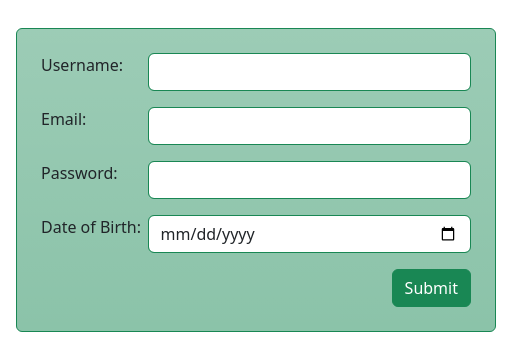
Validation after incorrect data submission › Displays an error message 'Email is invalid' if email has an incorrect format
Type "marius" into the field with test id "username".
click(310, 72); type("marius")  # box [148,53,472,91]
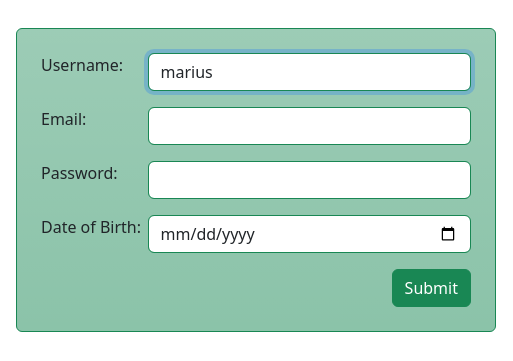
Type "abc" into the field with test id "email".
click(310, 126); type("abc")  # box [148,107,472,145]
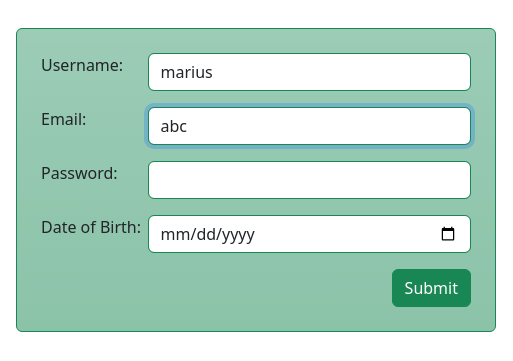
Type "mariuxas" into the password field with test id "password".
click(310, 180); type("mariuxas")  # box [148,161,472,199]
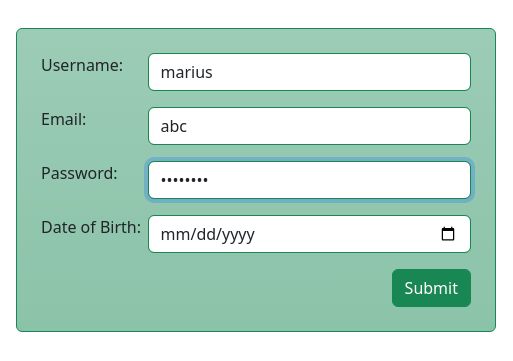
Type "1995-05-30" into the date field with test id "date-of-birth".
click(310, 234); type("1995-05-30")  # box [148,215,472,253]
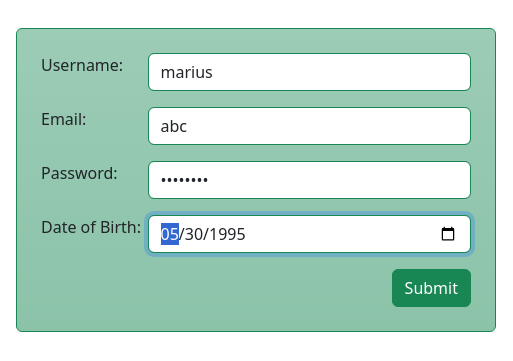
Click the button with test id "submit".
click(432, 288)  # box [392,269,471,307]
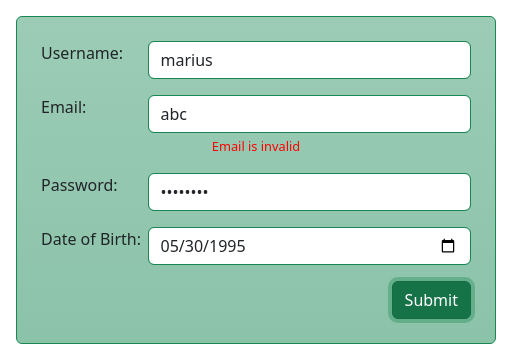
expect the text "Email is invalid" is shown: met, box [212,137,300,155]
